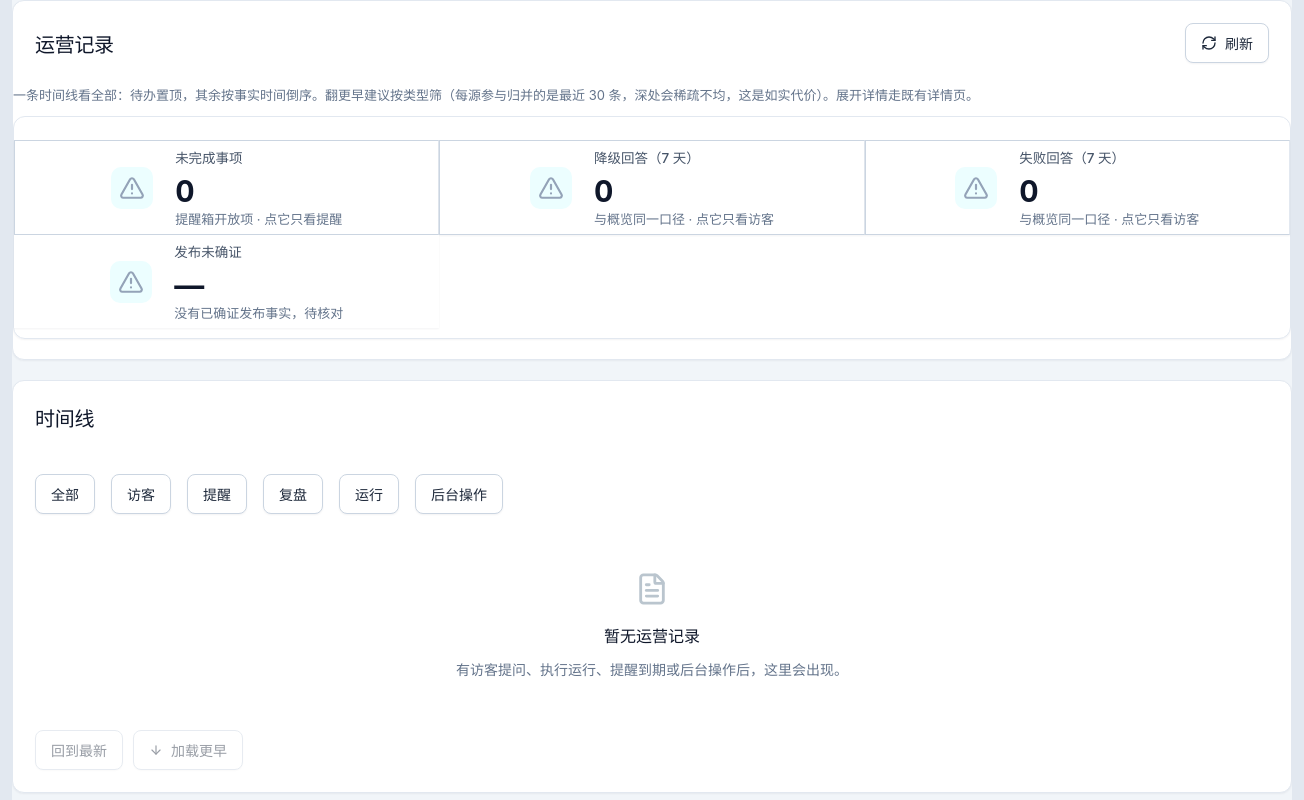
Scenario: ActivityStreamPanel（运营活动流） › 空结果区分「筛完为空」与「本来就没有」
Expected: the text "暂无运营记录" is shown, [604,623,700,647]
Click the button "复盘" at (293, 494), box [263,474,323,514]
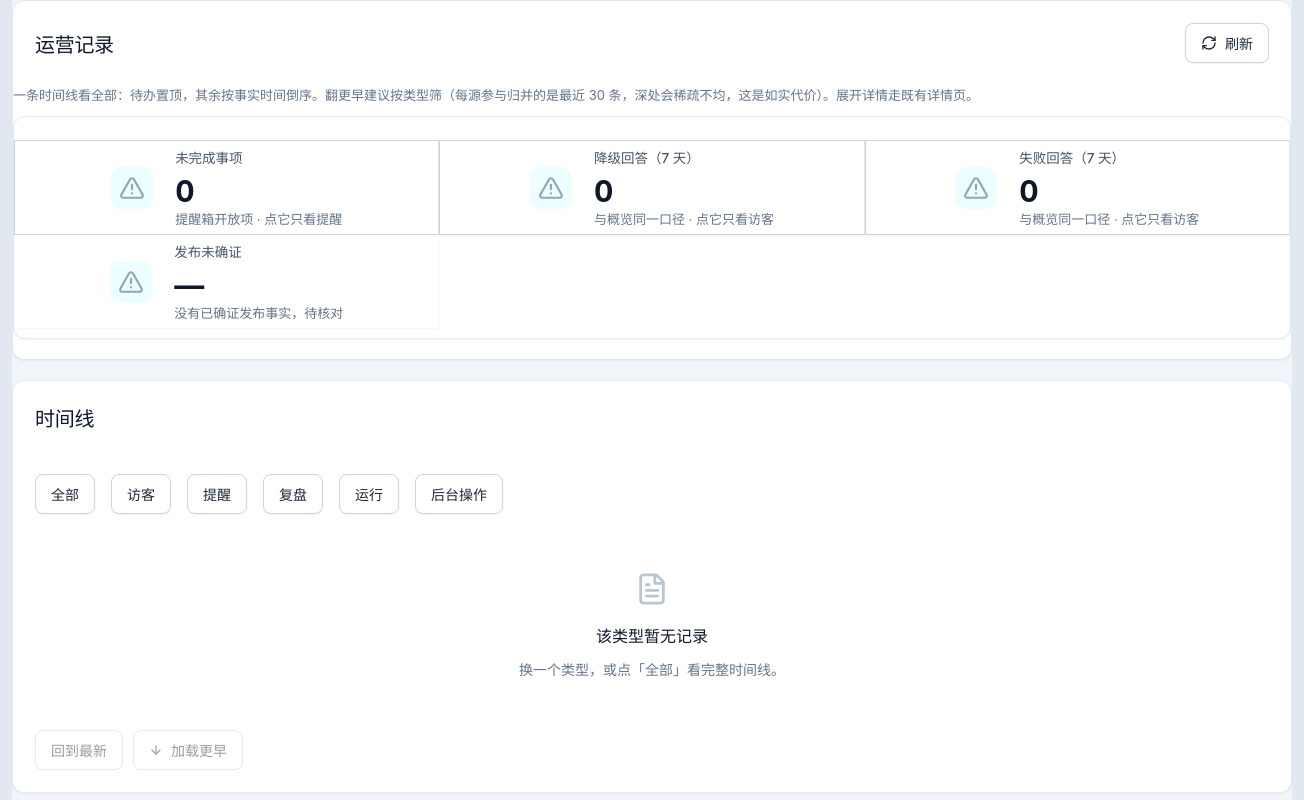
Now the text "该类型暂无记录" is shown, box [596,623,708,647]
